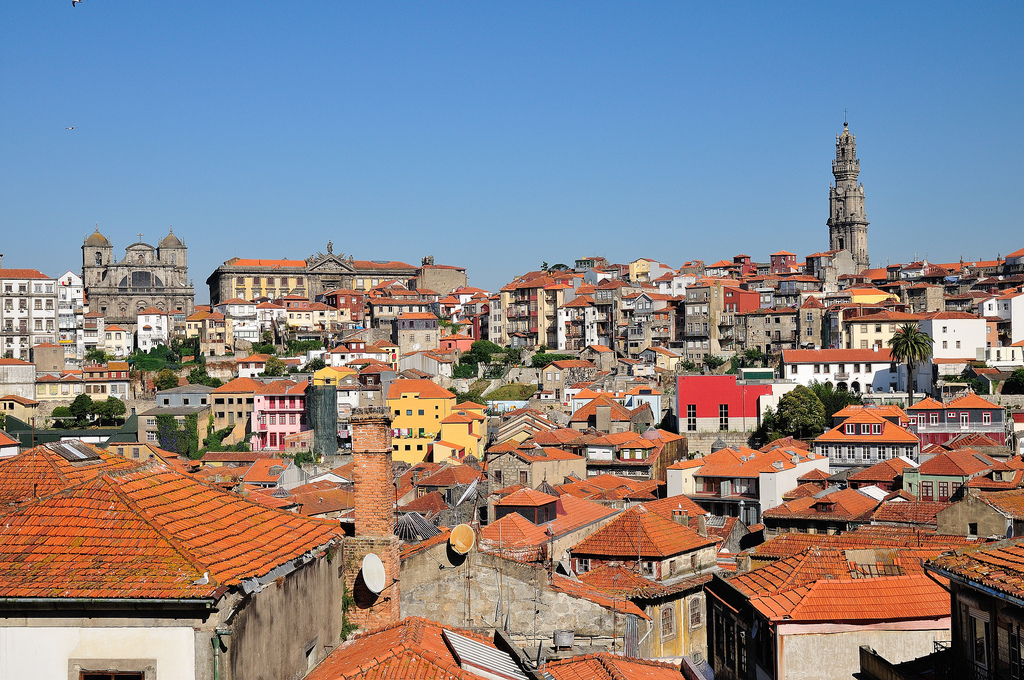clerigos: (819, 106, 874, 273)
